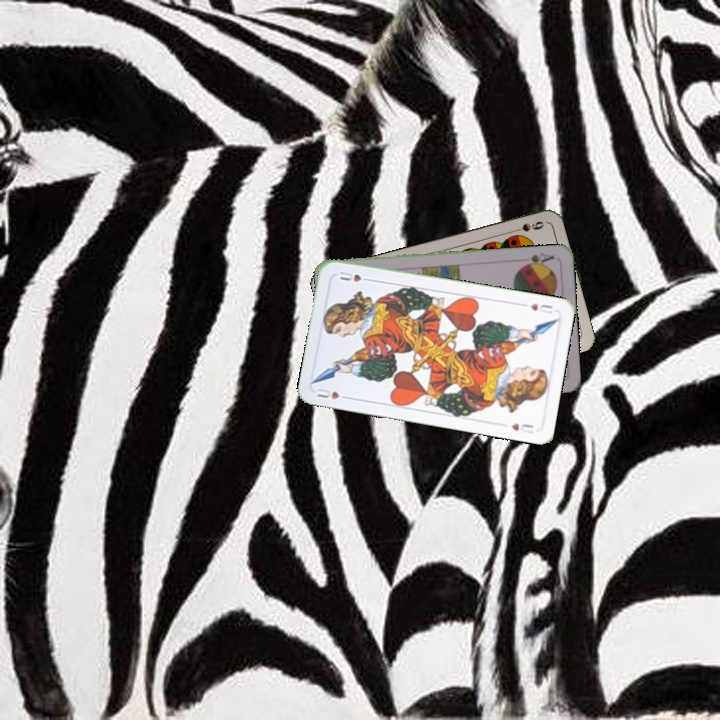HU: (313, 384, 352, 402), (526, 299, 555, 316)
S9: (507, 217, 547, 235)
SA: (517, 249, 557, 270)
